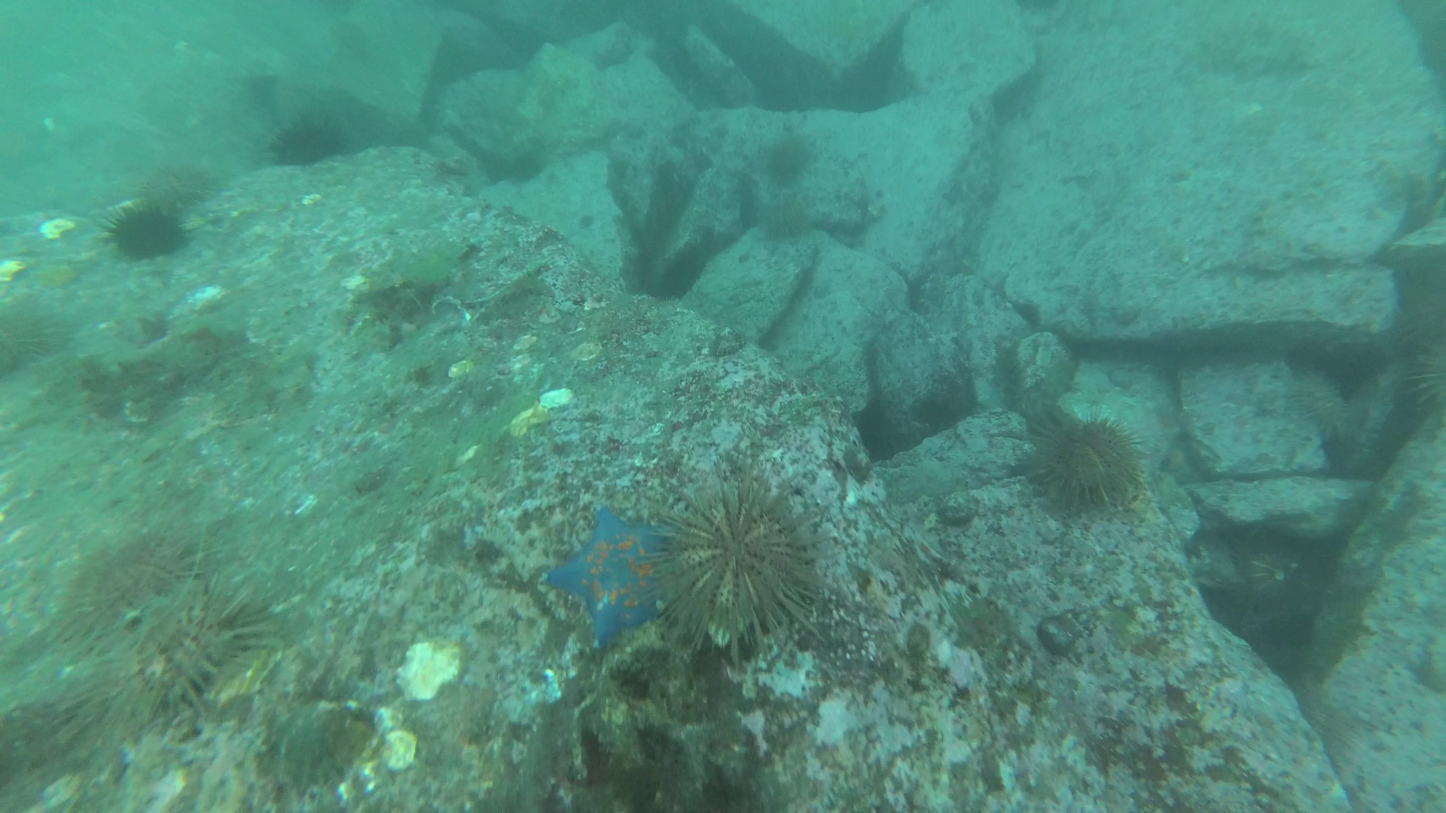holothurian: (538, 506, 684, 643)
scallop: (396, 638, 467, 701), (506, 403, 551, 444), (38, 212, 74, 238), (569, 340, 604, 362), (445, 356, 476, 379), (0, 254, 15, 285)
starfish: (651, 490, 814, 653), (99, 583, 270, 721), (41, 532, 178, 650), (1035, 404, 1146, 519), (98, 205, 189, 260), (1288, 365, 1353, 438), (264, 114, 345, 166), (1406, 335, 1446, 424), (762, 140, 824, 184), (759, 204, 813, 243)
